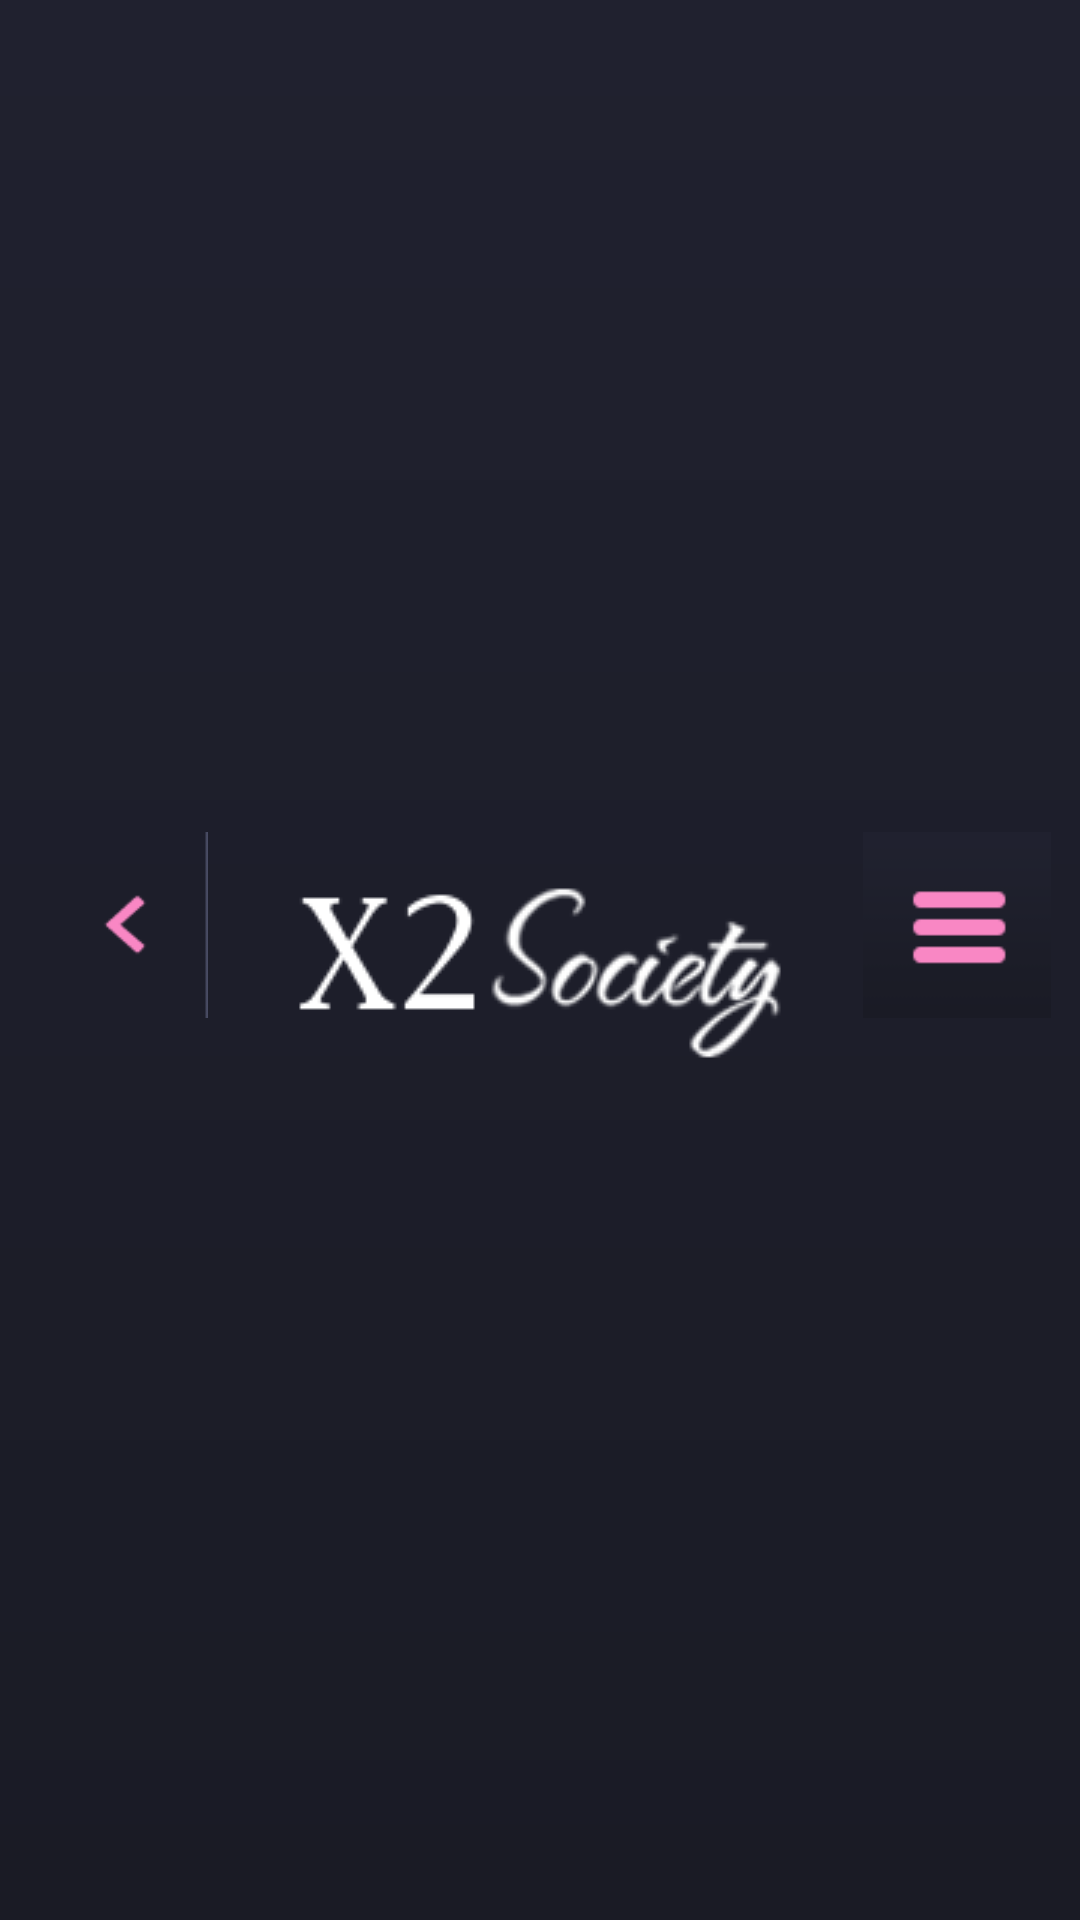

Point at icon controls on the screen. Image size 1080w x 1920h, points as point (x, y).
toggle menu: point (959, 927)
